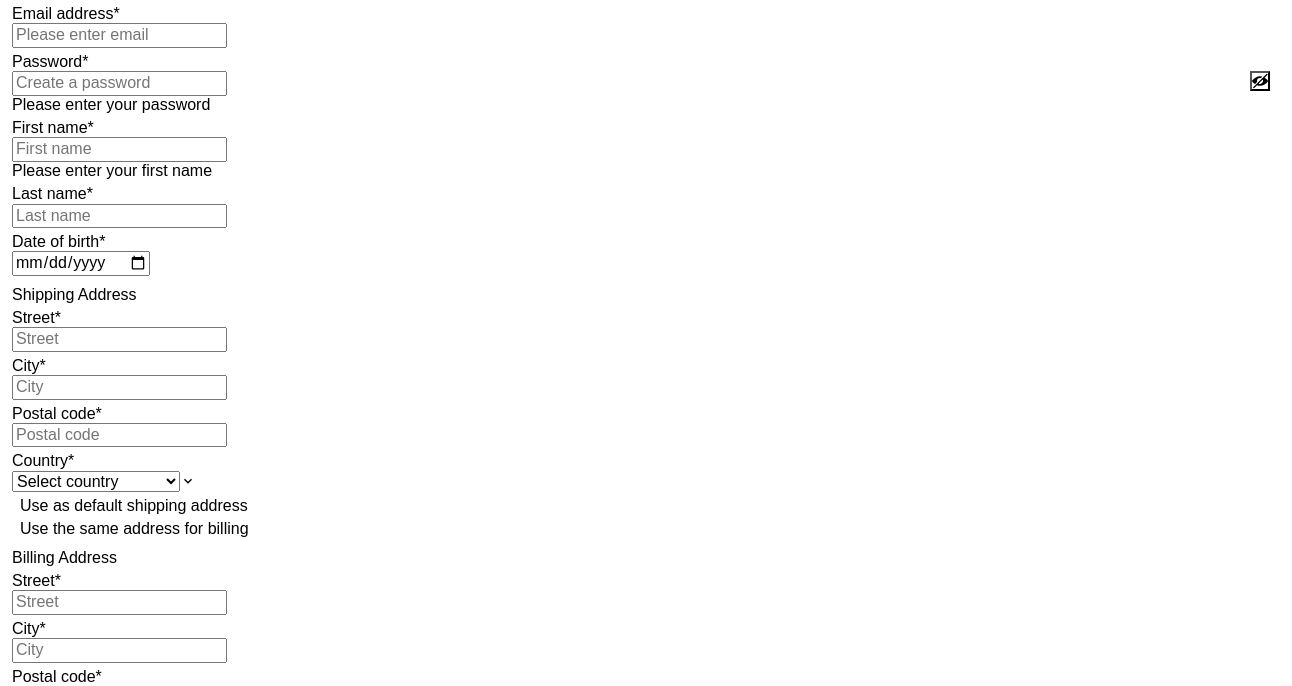
SignUpForm › should say if lastname contains not only Latin letters
The image size is (1292, 686).
Type "^" into the field with placeholder "Last name" at point(120, 216), box [12,204,227,228]
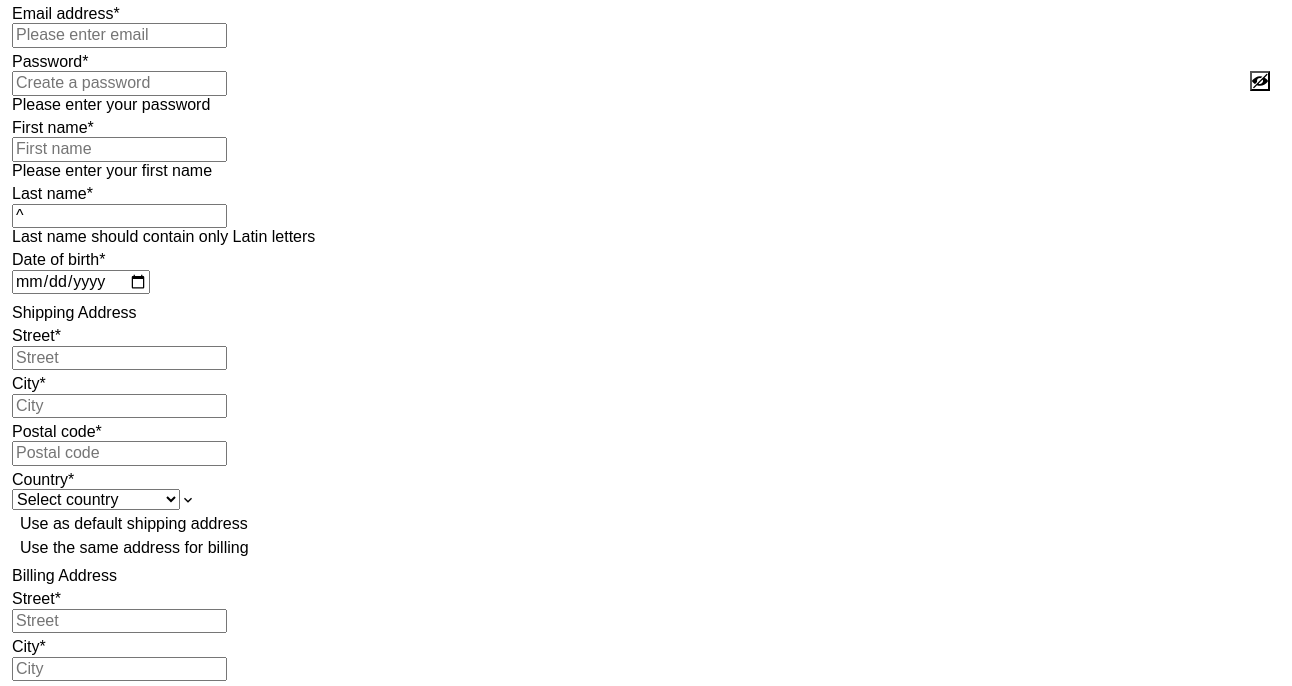
Expected: the text "Last name should contain only Latin letters" is shown, [12,228,315,245]
